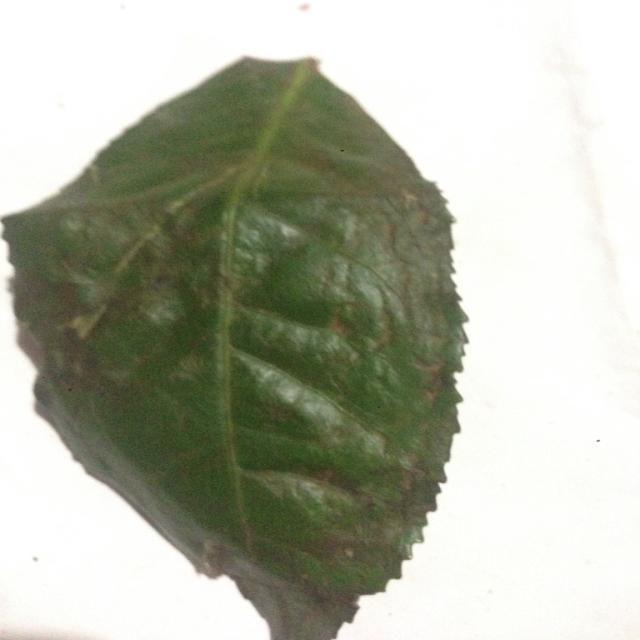Red Leaf Spot: (6, 40, 506, 640)
